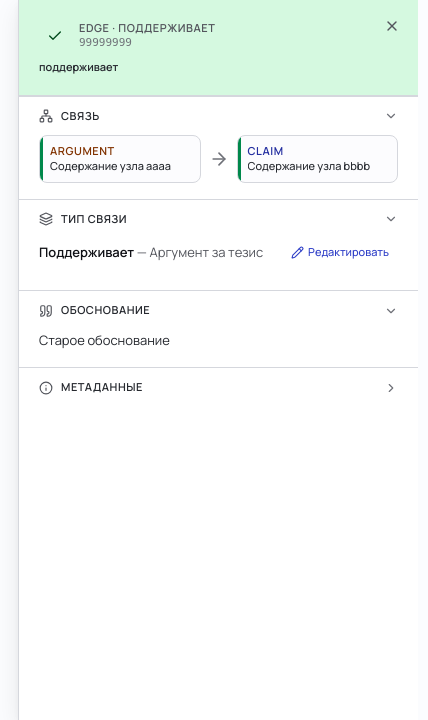
it: EdgeDetailsPanel › кнопка "Редактировать" переключает в edit-mode с radio-buttons из allowed
Click the button "Редактировать". click: (340, 252)
box: left=282, top=238, right=398, bottom=266
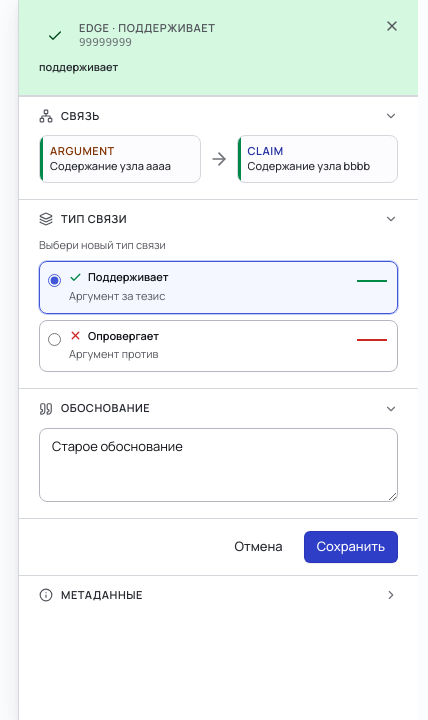
Expected: the radio button labelled "Поддерживает Аргумент за тезис" is checked, left=48, top=274, right=61, bottom=287
Expected: the radio button labelled "Опровергает Аргумент против" is shown, left=48, top=333, right=61, bottom=346
